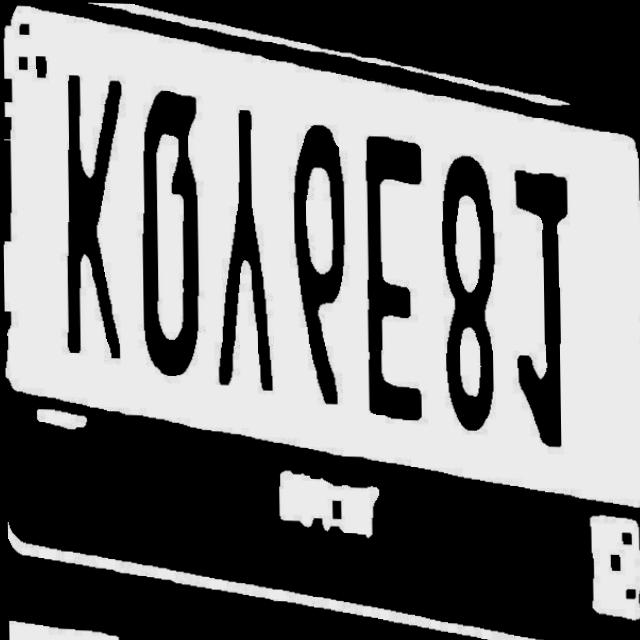1: (510, 157, 591, 460)
6: (287, 114, 359, 420)
8: (435, 145, 505, 435)
e: (360, 129, 434, 427)
k: (61, 73, 136, 352)
q: (132, 81, 211, 388)
y: (212, 92, 278, 400)
